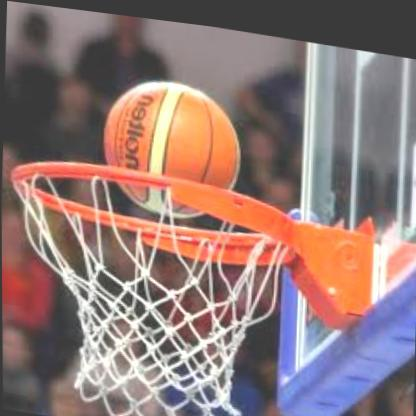basketball: (100, 67, 242, 221)
rim: (4, 148, 295, 416)
